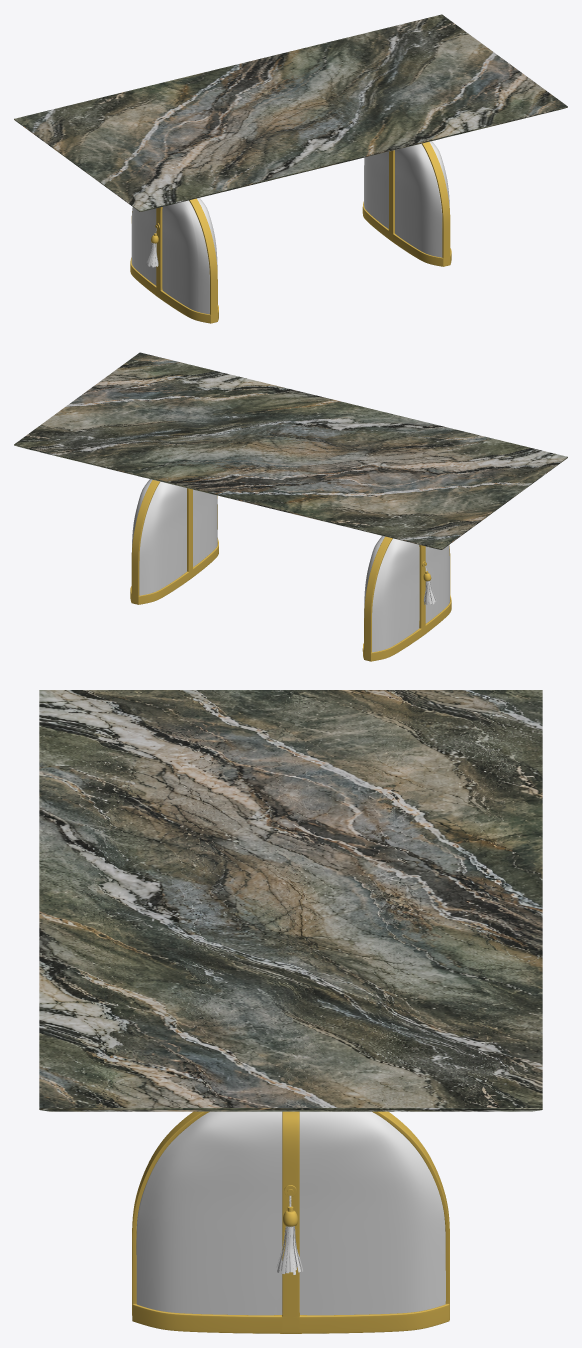
Rendered from SLN_Hour_Glass_220.glb.
The picture shows the model from 3 angles, top to bottom: view 1: azimuth 30°, elevation 25°; view 2: azimuth 150°, elevation 25°; view 3: azimuth 270°, elevation 25°; orthographic projection. The views are drawn at different scales.
Visible parts, largest first — view 1: Hour_Glass_220; view 2: Hour_Glass_220; view 3: Hour_Glass_220.
Boxes of the visible parts, x1=… form: Hour_Glass_220: x1=14, y1=14, x2=567, y2=323; Hour_Glass_220: x1=14, y1=352, x2=567, y2=661; Hour_Glass_220: x1=39, y1=690, x2=542, y2=1333.
Size of the model in its own units: 2.2 by 0.7504 by 1.12.
3 materials, 1 textured.
